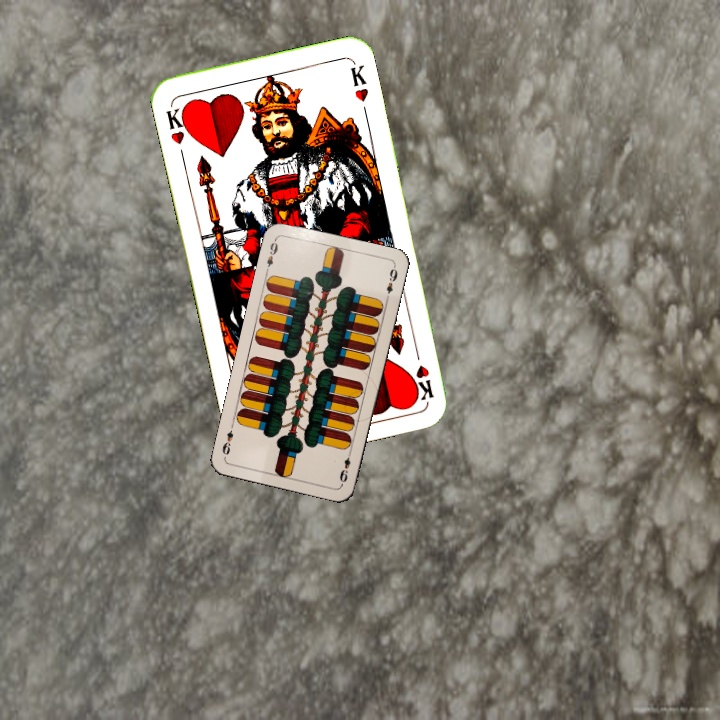E9: (335, 446, 354, 487), (262, 235, 281, 275)
HK: (410, 343, 436, 403), (162, 101, 193, 147)
